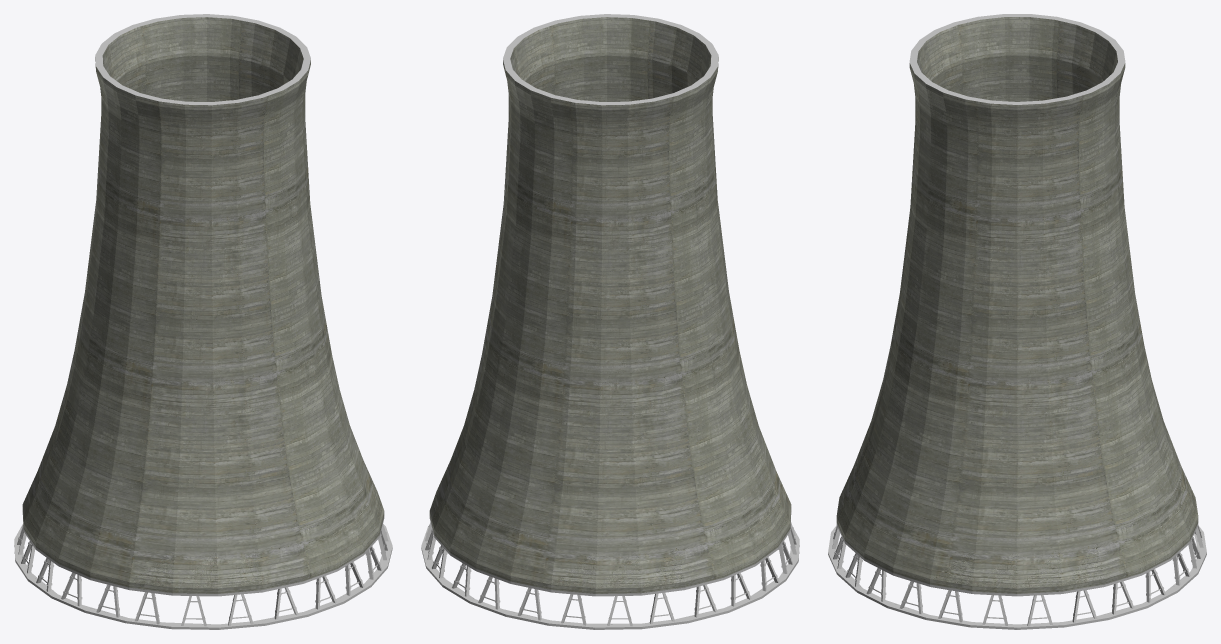
The model's file is building_6.fbx.
The picture shows the model from 3 angles, left to right: view 1: azimuth 30°, elevation 25°; view 2: azimuth 150°, elevation 25°; view 3: azimuth 270°, elevation 25°; orthographic projection.
Parts seen in each view (by area): view 1: building_6_Layer1; view 2: building_6_Layer1; view 3: building_6_Layer1.
Part boxes in pixels (bbox=[...]): building_6_Layer1: bbox=[14, 14, 392, 629]; building_6_Layer1: bbox=[421, 14, 799, 629]; building_6_Layer1: bbox=[828, 14, 1206, 629].
Size of the model in its own units: 14.84 by 21.24 by 14.87.
